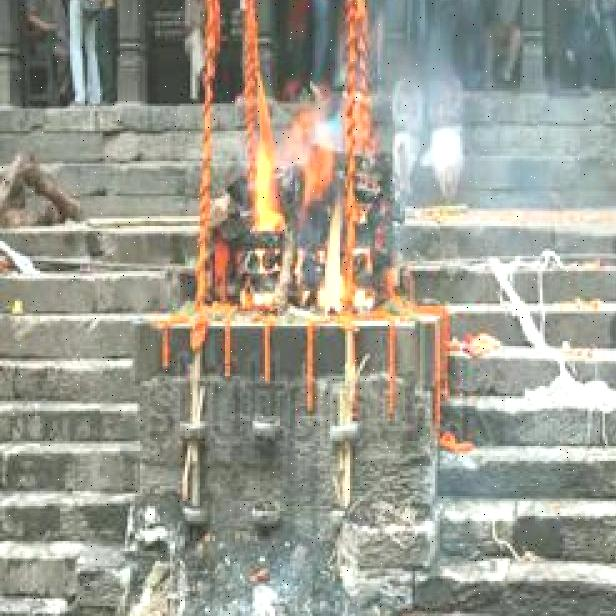fire: (248, 81, 356, 315)
